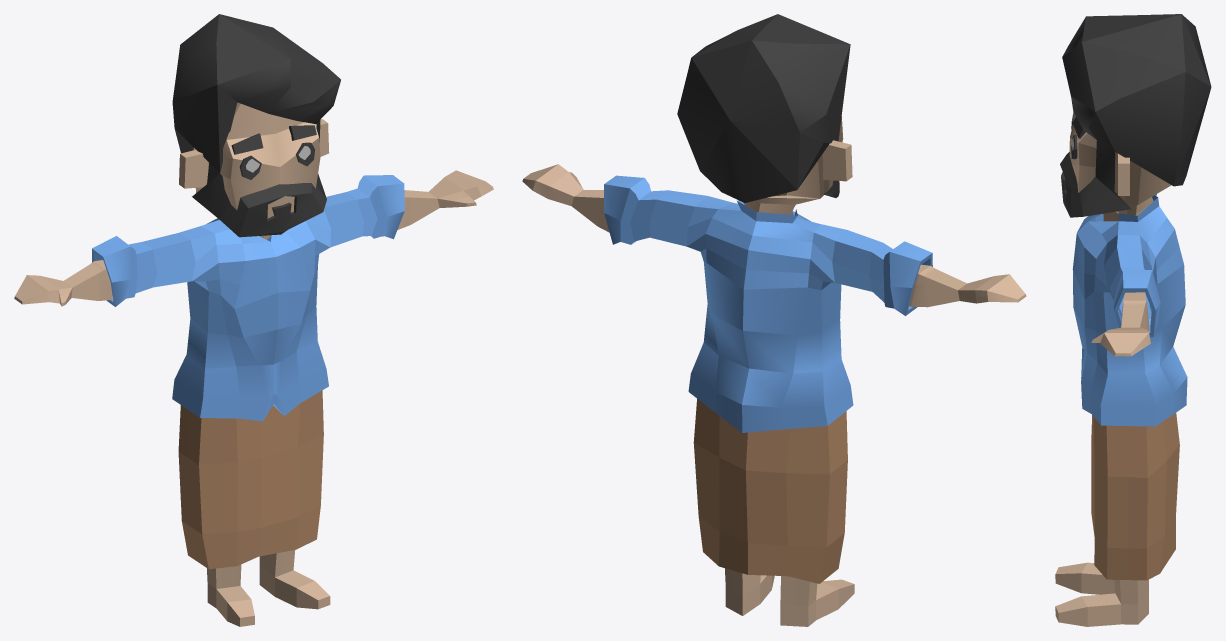
File: The_man_ori.fbx
3 views of the same model, side by side, from view 1: azimuth 30°, elevation 25°; view 2: azimuth 150°, elevation 25°; view 3: azimuth 270°, elevation 25° (orthographic). The views are drawn at different scales.
Visible parts, largest first — view 1: The_man_ori; view 2: The_man_ori; view 3: The_man_ori.
Part boxes in pixels (left/top/right/bottom): The_man_ori: left=14, top=14, right=493, bottom=626; The_man_ori: left=522, top=14, right=1026, bottom=626; The_man_ori: left=1055, top=14, right=1211, bottom=626.
Bounding box in the file's own units: 379 × 434 × 104.
Materials: 1 (1 with a texture image).
